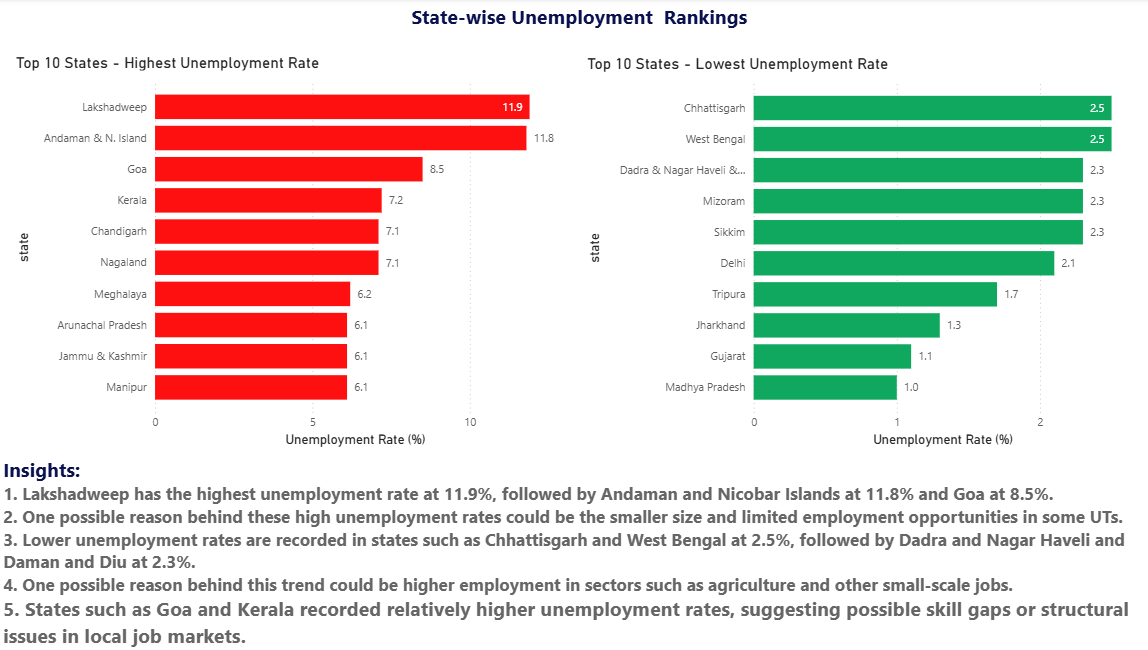

The dashboard page shown, as its layout file describes it:
{"tool":"powerbi","page":{"name":"State Rankings","canvas":[1280,720],"ordinal":1},"visuals":[{"type":"textbox","box":[0,0,1280.3,50.8],"z":0},{"type":"barChart","title":"Top 10 States - Highest Unemployment Rate","fields":{"Category":["state_data.state"],"Y":["state_data.UR_RuralUrban_Person"]},"box":[13.7,60.4,609.3,437.7],"z":1000},{"type":"barChart","title":"Top 10 States - Lowest Unemployment Rate","fields":{"Category":["state_data.state"],"Y":["state_data.UR_RuralUrban_Person"]},"box":[640.8,61.7,612,436.4],"z":2000},{"type":"textbox","box":[0,498.1,1280.3,222.3],"z":3000}]}

Visuals, with their boxes in screenshot pixels (x1, y1, x2, y2), scaled from the page's 1280x720 canvas onto the 1148x650 screenshot:
textbox: l=0, t=0, r=1147, b=46
"Top 10 States - Highest Unemployment Rate" barChart: l=12, t=55, r=559, b=450
"Top 10 States - Lowest Unemployment Rate" barChart: l=575, t=56, r=1124, b=450
textbox: l=0, t=450, r=1147, b=649
